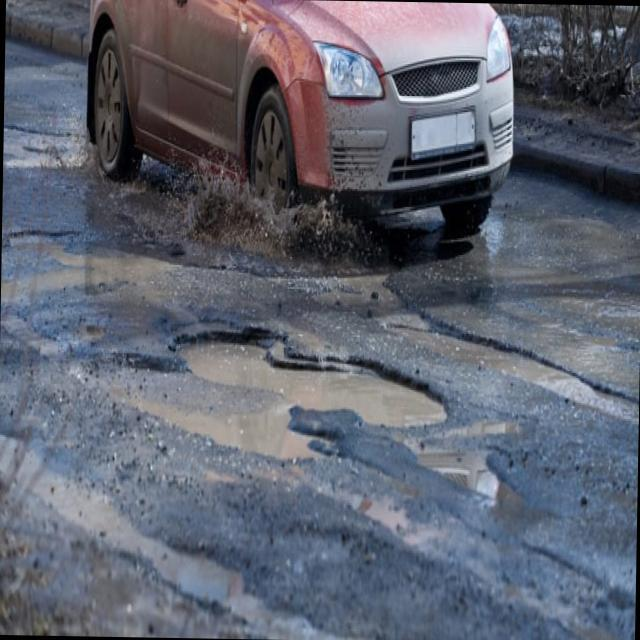Pothole: (0, 204, 640, 458), (0, 399, 386, 640), (100, 296, 472, 530)
